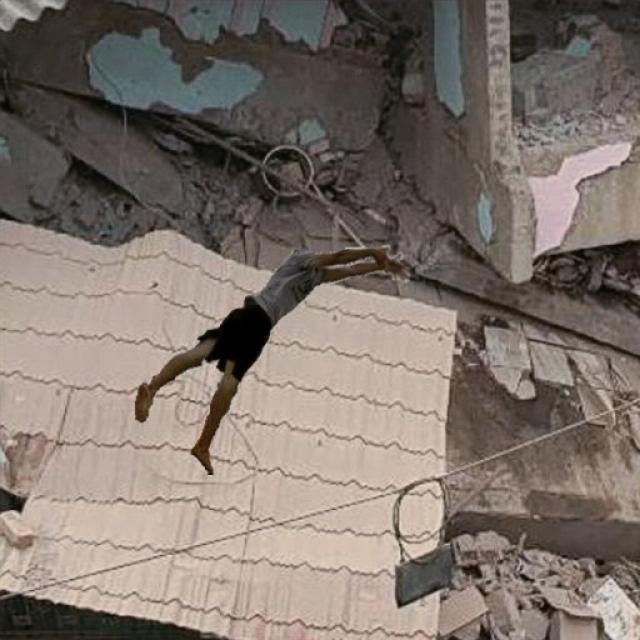Person in Rubble: (135, 245, 409, 474)
